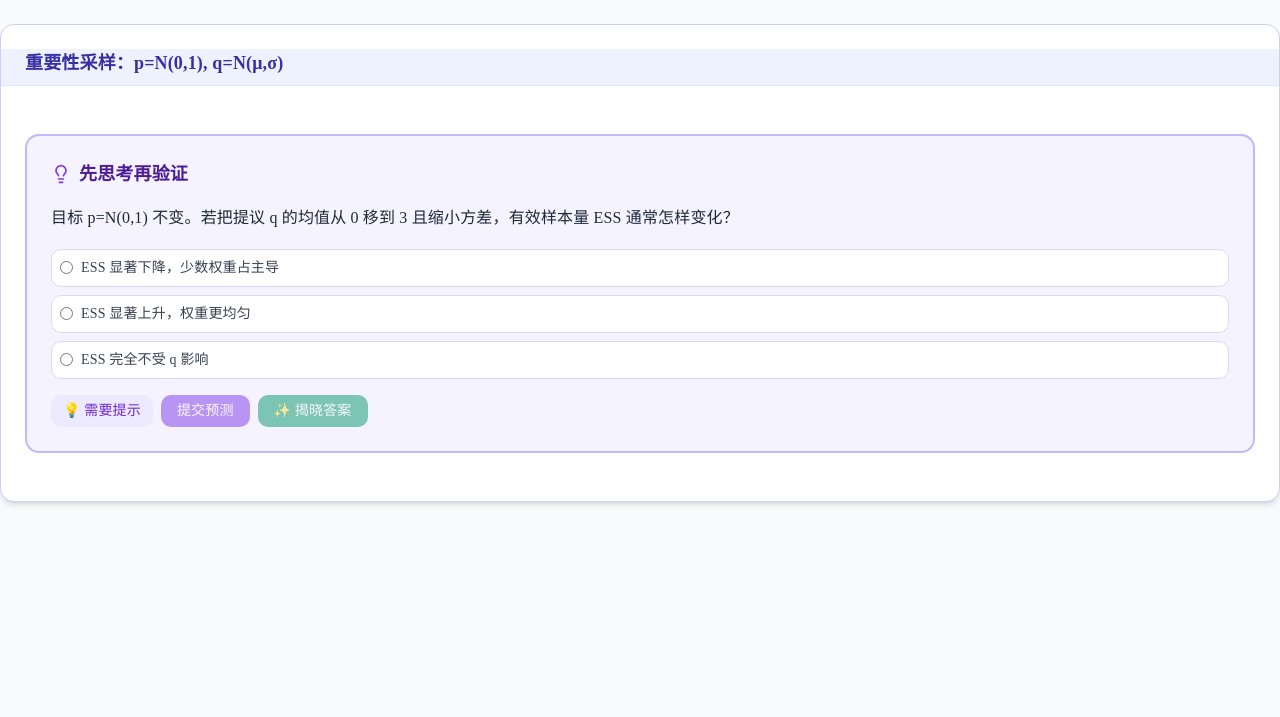
chapter 11 teaching-ready learning loop › gates the importance sampling lab until an ESS prediction is submitted
The image size is (1280, 717).
Click the radio button labelled "ESS 显著下降，少数权重占主导" at (66, 268), box [60,261,73,274]
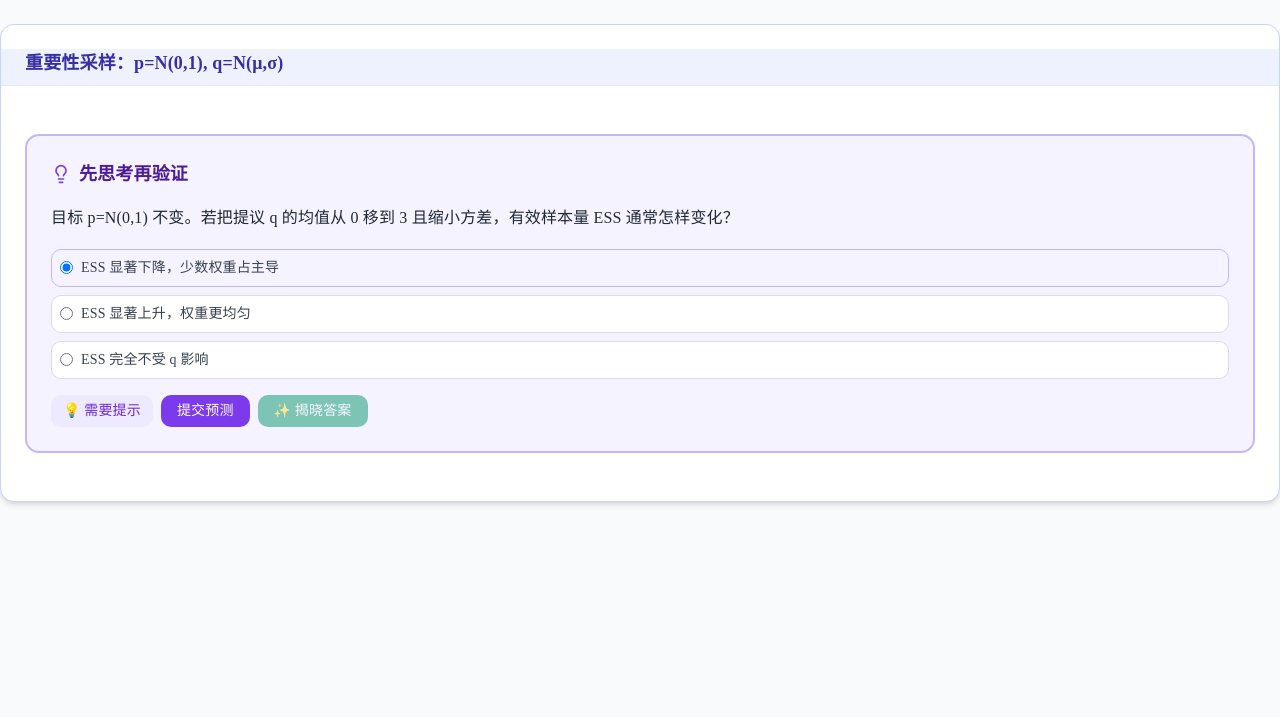
Click the button "提交预测" at (205, 411), box [161,395,250,427]
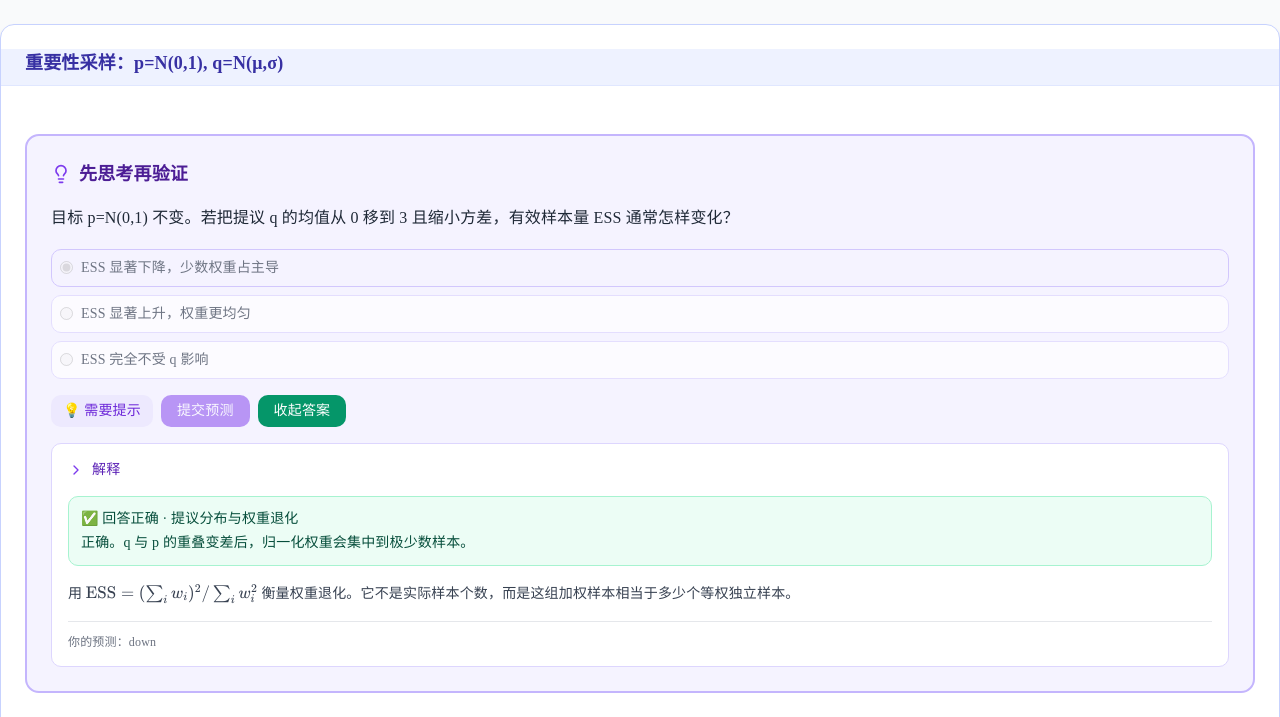
Result: the text "✅ 回答正确 · 提议分布与权重退化" is shown at [81,511,298,526]
